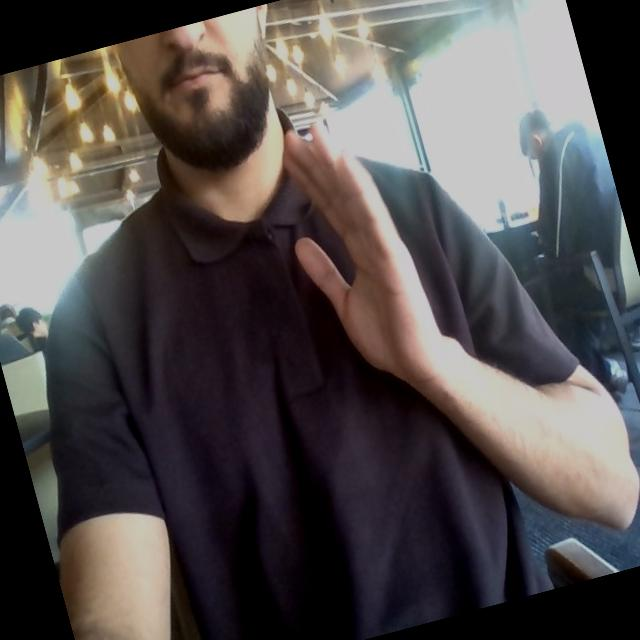Hand: (284, 125, 442, 388)
